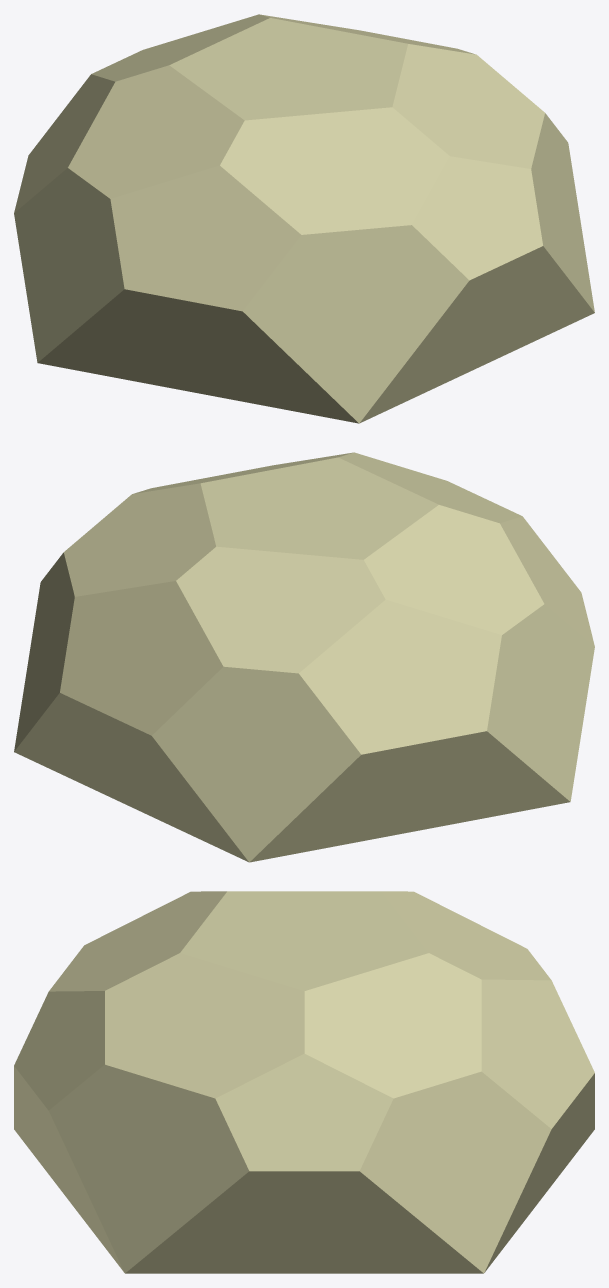
Rendered from roca3.glb.
3 views of the same model, one above another, from view 1: azimuth 30°, elevation 25°; view 2: azimuth 150°, elevation 25°; view 3: azimuth 270°, elevation 25° (orthographic). The views are drawn at different scales.
Parts seen in each view (by area): view 1: Icosphere; view 2: Icosphere; view 3: Icosphere.
Boxes of the visible parts, x1,y1,x2,y2 form: Icosphere: (14, 14, 594, 423); Icosphere: (14, 452, 594, 862); Icosphere: (14, 891, 594, 1273).
Size of the model in its own units: 1.74 by 0.7818 by 1.7.
